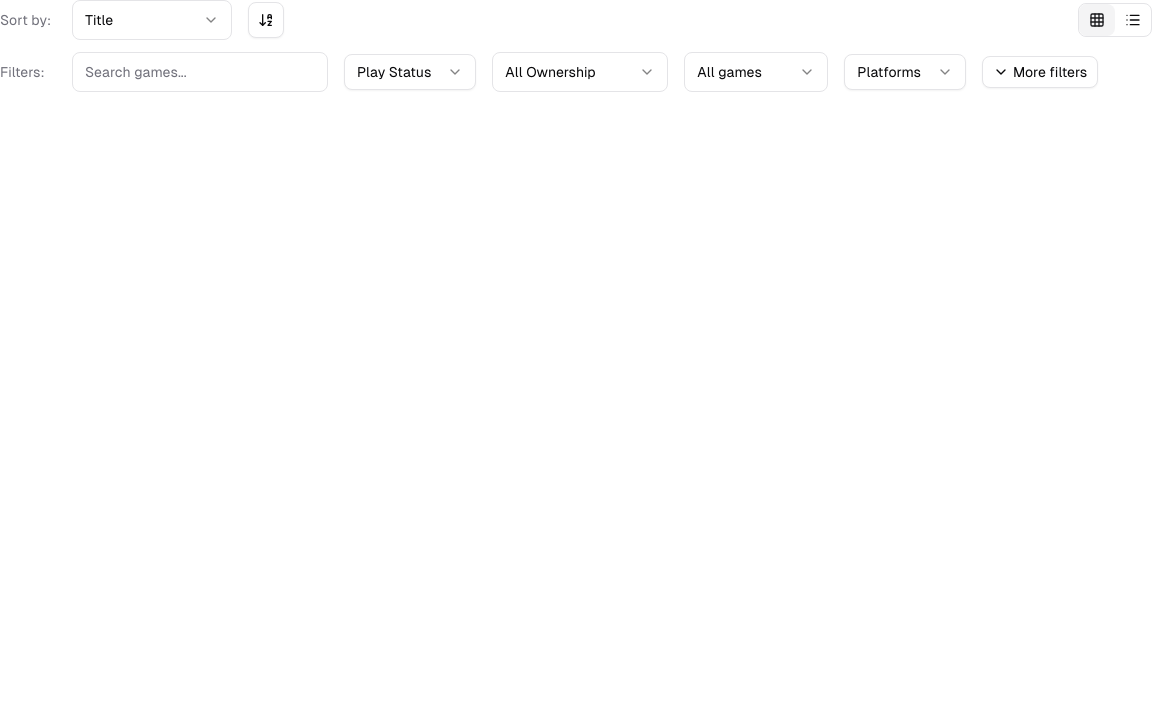
Test: GameFilters › platform filter (multi-select) › handles empty platforms list (still shows Unknown option)
What coordinates should you click on to do the following:
click the dropdown "Platforms"
I would click on:
 (905, 72)
Its box is [844,54,966,90].
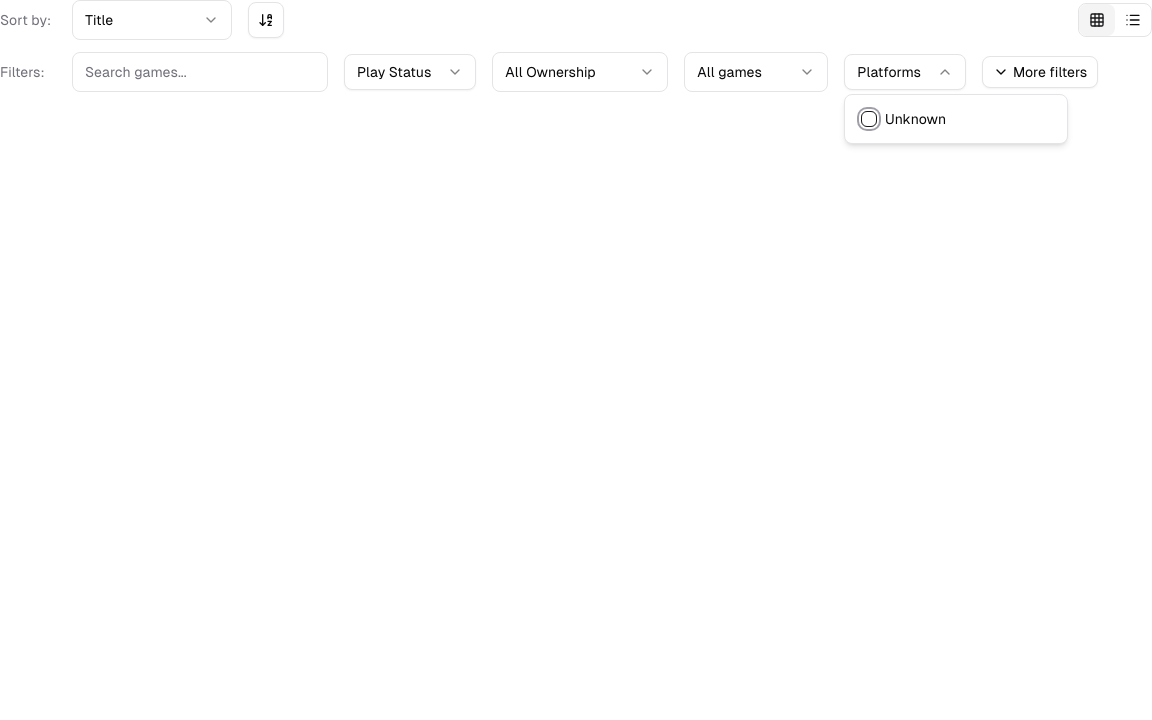
Now the text "Unknown" is shown, box [885,109,946,129]
